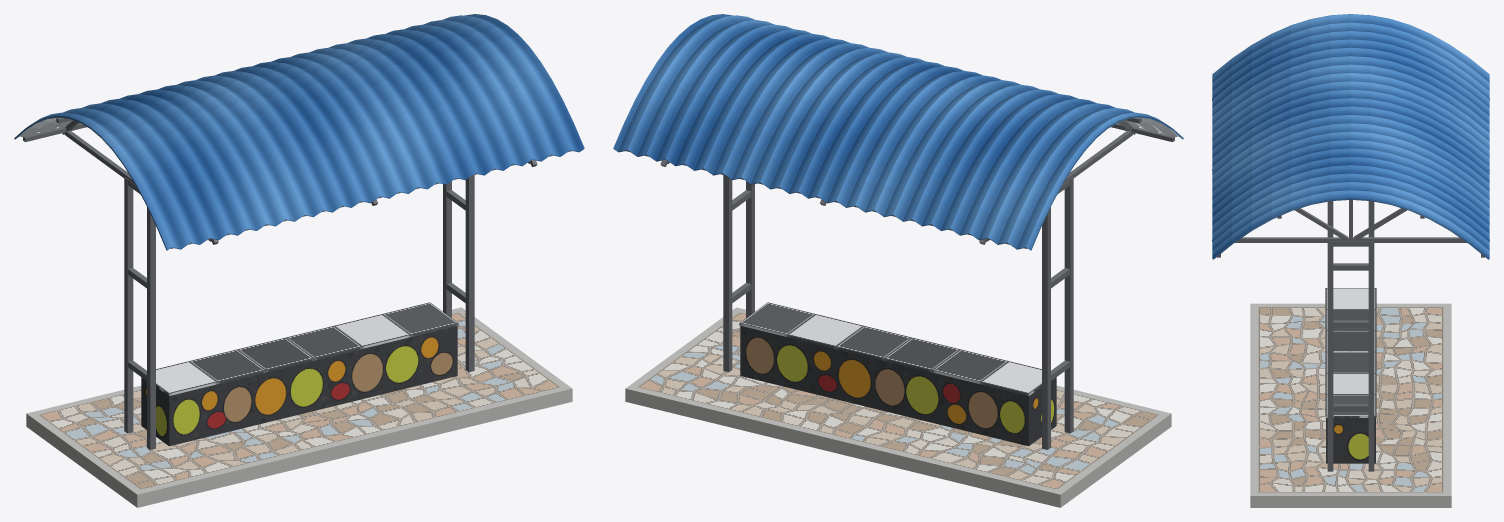
The model's file is halte_tempat_duduk_2.glb.
3 renders of one model, left to right at view 1: azimuth 30°, elevation 25°; view 2: azimuth 150°, elevation 25°; view 3: azimuth 270°, elevation 25°, orthographic. The views are drawn at different scales.
Parts seen in each view (by area): view 1: Atap_Lengkung_Spandek_Biru_Atas, Lantai_Keramik_Mozaik_Pecahan, Bangku_BatuWarna_Depan, Curb_Beton_Platform, Rangka_Tiang_Dan_KudaBesi_Hitam, Dudukan_Bangku_Keramik, Bangku_Sisi_Pendek; view 2: Atap_Lengkung_Spandek_Biru_Atas, Lantai_Keramik_Mozaik_Pecahan, Bangku_BatuWarna_Belakang, Curb_Beton_Platform, Rangka_Tiang_Dan_KudaBesi_Hitam, Dudukan_Bangku_Keramik, Bangku_Sisi_Pendek; view 3: Atap_Lengkung_Spandek_Biru_Atas, Lantai_Keramik_Mozaik_Pecahan, Curb_Beton_Platform, Rangka_Tiang_Dan_KudaBesi_Hitam, Dudukan_Bangku_Keramik, Bangku_Sisi_Pendek.
Part boxes in pixels (bbox=[...]): Atap_Lengkung_Spandek_Biru_Atas: bbox=[14, 14, 584, 250]; Lantai_Keramik_Mozaik_Pecahan: bbox=[39, 312, 560, 489]; Bangku_BatuWarna_Depan: bbox=[169, 326, 457, 446]; Curb_Beton_Platform: bbox=[26, 307, 572, 507]; Rangka_Tiang_Dan_KudaBesi_Hitam: bbox=[23, 117, 571, 449]; Dudukan_Bangku_Keramik: bbox=[156, 302, 458, 395]; Bangku_Sisi_Pendek: bbox=[141, 377, 169, 445]; Atap_Lengkung_Spandek_Biru_Atas: bbox=[613, 14, 1183, 250]; Lantai_Keramik_Mozaik_Pecahan: bbox=[637, 312, 1158, 489]; Bangku_BatuWarna_Belakang: bbox=[740, 326, 1028, 446]; Curb_Beton_Platform: bbox=[625, 307, 1171, 507]; Rangka_Tiang_Dan_KudaBesi_Hitam: bbox=[626, 117, 1174, 449]; Dudukan_Bangku_Keramik: bbox=[739, 302, 1041, 395]; Bangku_Sisi_Pendek: bbox=[1028, 377, 1056, 445]; Atap_Lengkung_Spandek_Biru_Atas: bbox=[1212, 14, 1489, 259]; Lantai_Keramik_Mozaik_Pecahan: bbox=[1258, 307, 1443, 492]; Curb_Beton_Platform: bbox=[1250, 303, 1451, 507]; Rangka_Tiang_Dan_KudaBesi_Hitam: bbox=[1212, 99, 1489, 471]; Dudukan_Bangku_Keramik: bbox=[1325, 288, 1376, 417]; Bangku_Sisi_Pendek: bbox=[1326, 418, 1375, 463].
Size of the model in its own units: 3.44 by 2.57 by 2.1.
9 materials, 6 textured.
